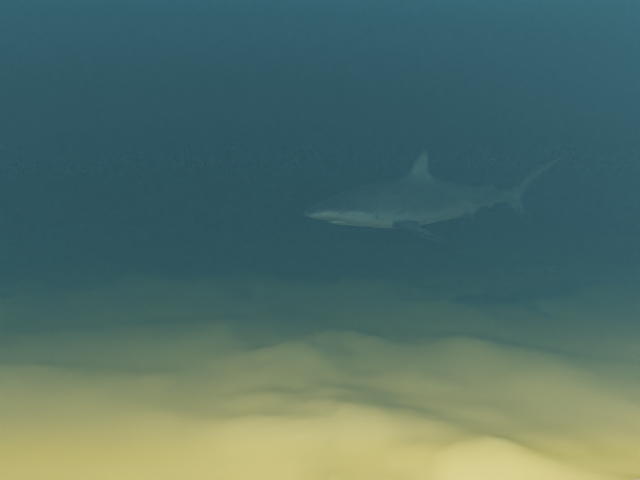Carribean Shark.001: (303, 147, 571, 242)
